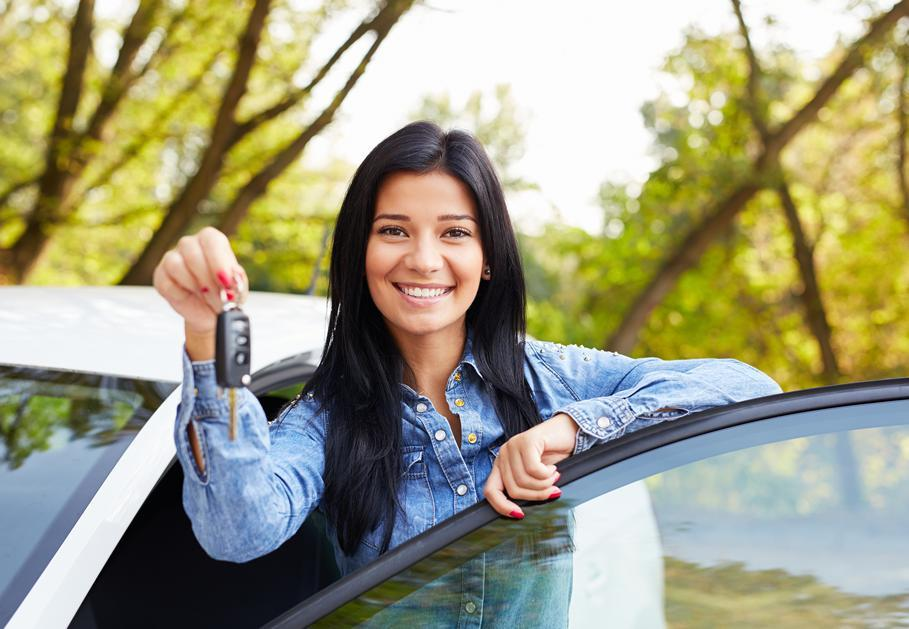Awake: (330, 118, 509, 344)
